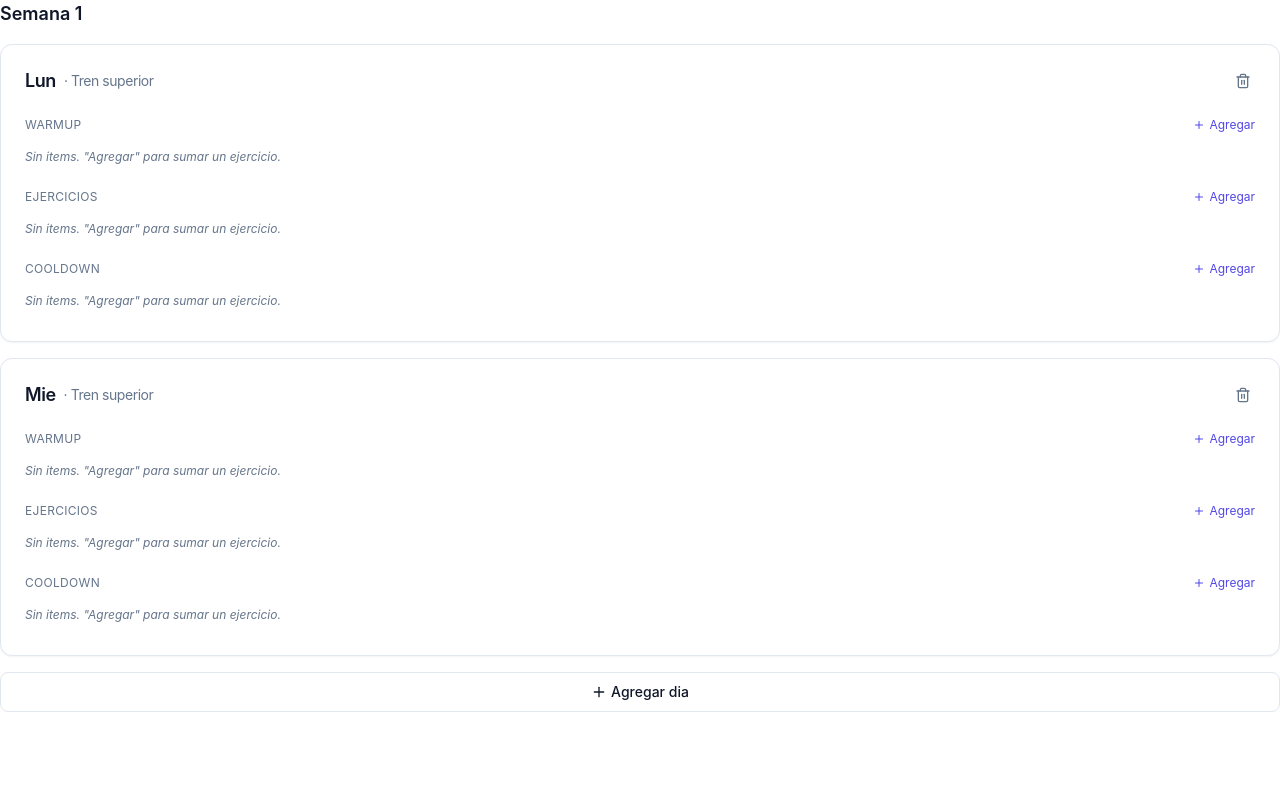
Test: PlanWeekView — agregar dia › los dias ya usados aparecen deshabilitados en el dialog
This screenshot has width=1280, height=800.
Click the button "Agregar dia" at (640, 692), box left=0, top=672, right=1279, bottom=712
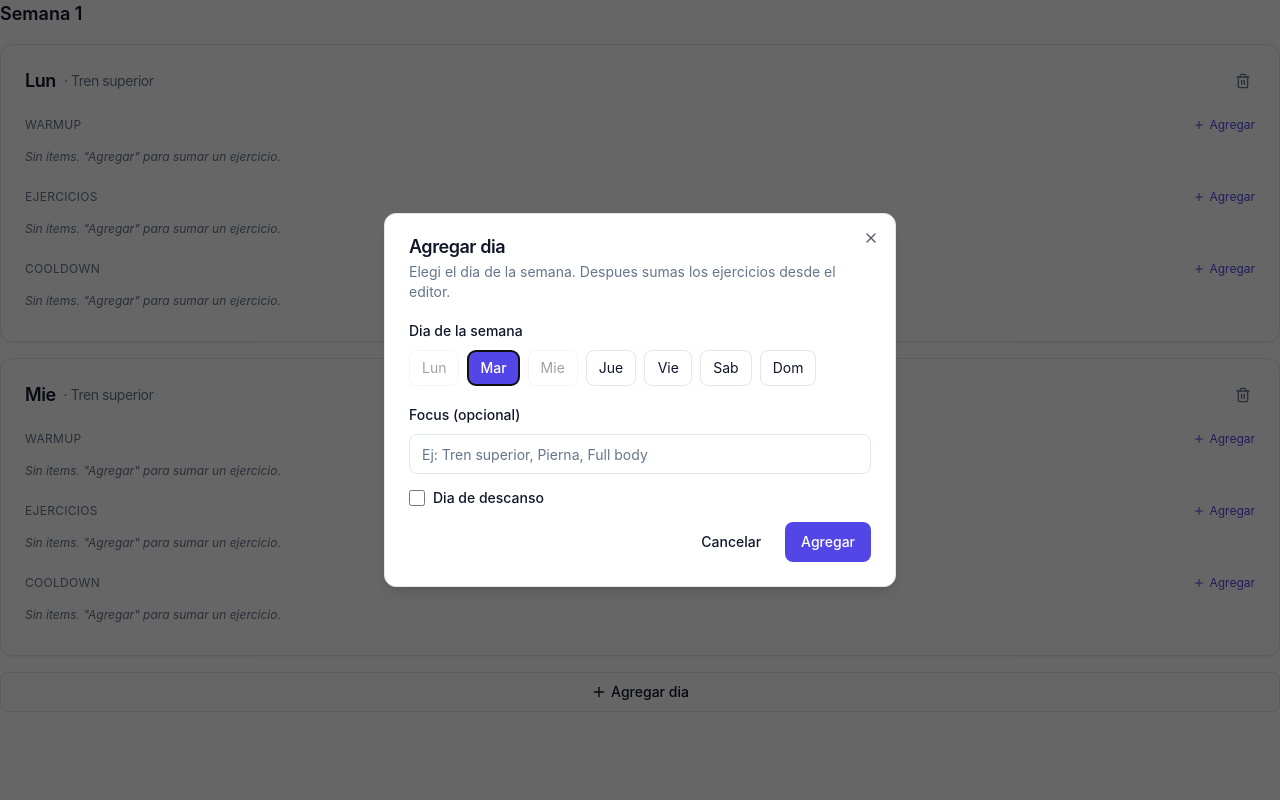
Expected: the button "Lun" is disabled, left=409, top=350, right=460, bottom=386
Expected: the button "Mie" is disabled, left=528, top=350, right=578, bottom=386
Expected: the button "Mar" is enabled, left=468, top=350, right=520, bottom=386
